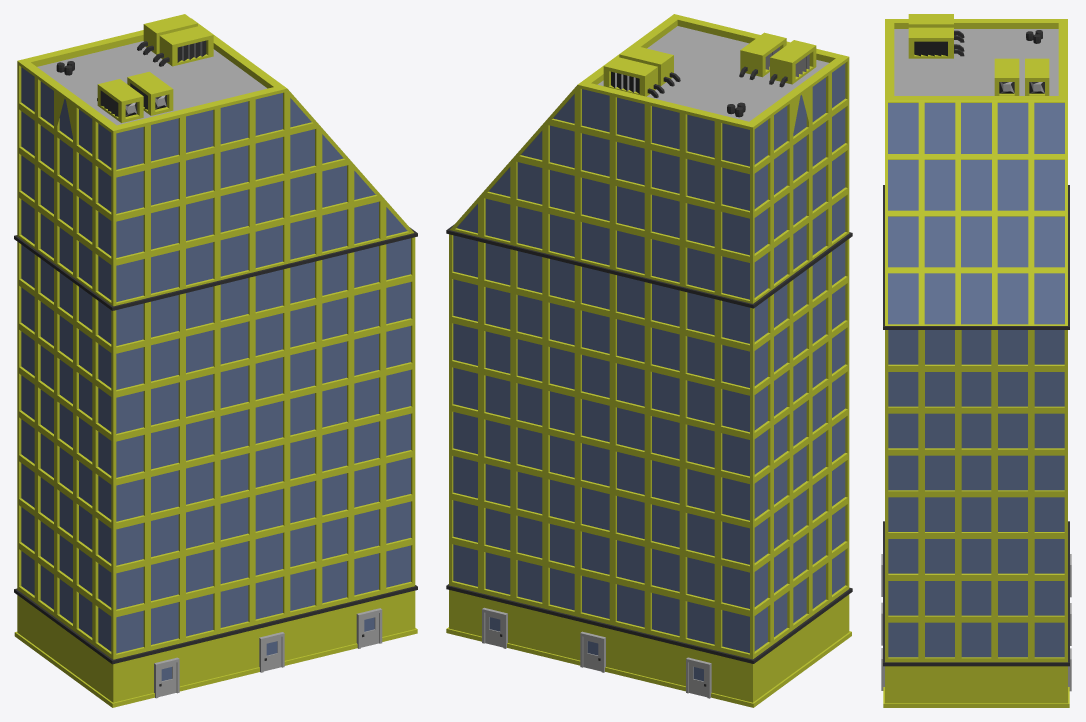
File: Skyscraper4_3.fbx
3 views of the same model, side by side, from view 1: azimuth 30°, elevation 25°; view 2: azimuth 150°, elevation 25°; view 3: azimuth 270°, elevation 25° (orthographic). The views are drawn at different scales.
Visible parts, largest first — view 1: Building13_1.013; view 2: Building13_1.013; view 3: Building13_1.013.
Boxes of the visible parts, box(x1,y1,x2,y2) form: Building13_1.013: box(14, 14, 417, 707); Building13_1.013: box(446, 14, 852, 707); Building13_1.013: box(881, 14, 1071, 707).
Bounding box in the file's own units: 1210 × 2237 × 685.
